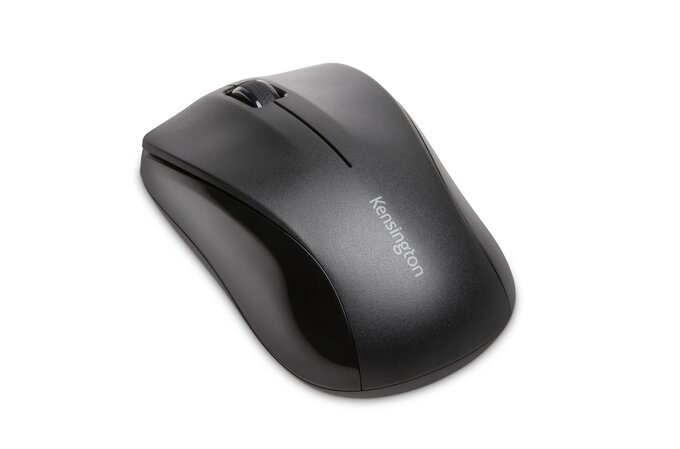Mouse: (131, 56, 523, 409)
